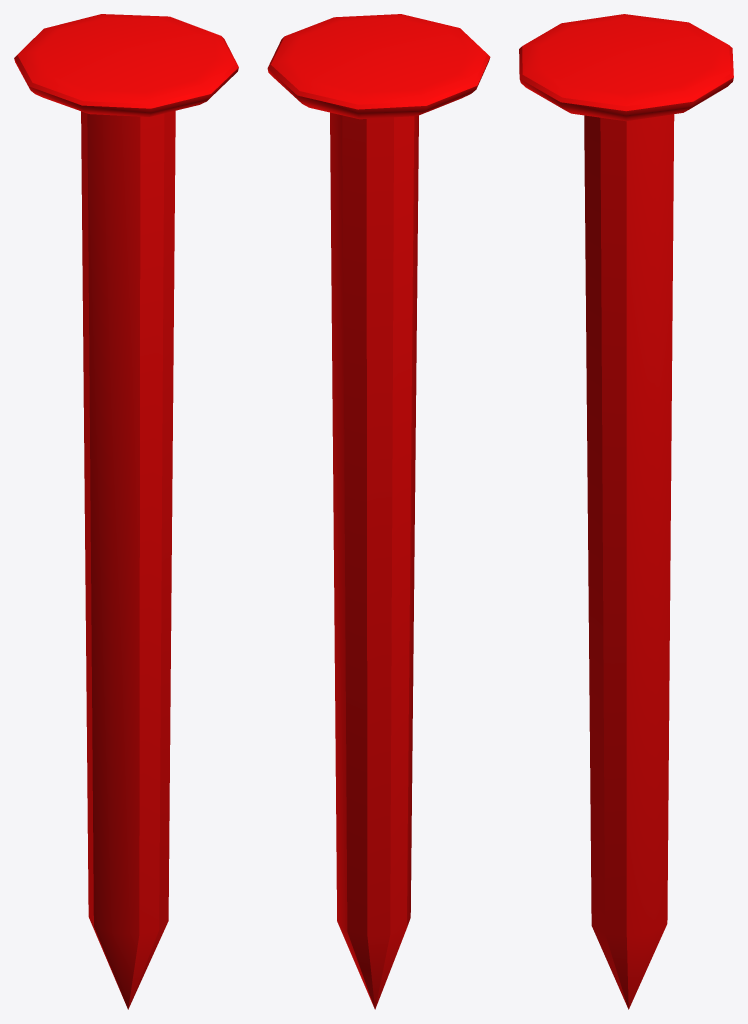
The model's file is Nail_002.FBX.
3 renders of one model, left to right at view 1: azimuth 30°, elevation 25°; view 2: azimuth 150°, elevation 25°; view 3: azimuth 270°, elevation 25°, orthographic.
Parts seen in each view (by area): view 1: Clou; view 2: Clou; view 3: Clou.
Part boxes in pixels (x1,y1,x2,y2): Clou: (14, 14, 238, 1009); Clou: (267, 14, 490, 1009); Clou: (519, 14, 733, 1009).
Size of the model in its own units: 1.65 by 7.73 by 1.57.
